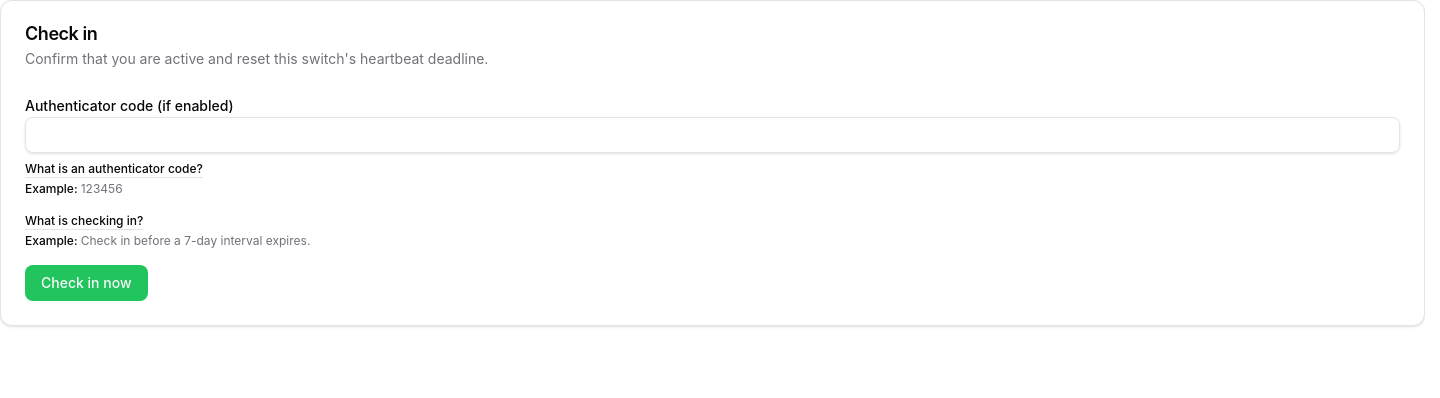
HeartbeatCheckin › explains check-in, optional TOTP, and the deadline result
Click the button "What is checking in?": {"x": 84, "y": 221} [25,213,143,229]
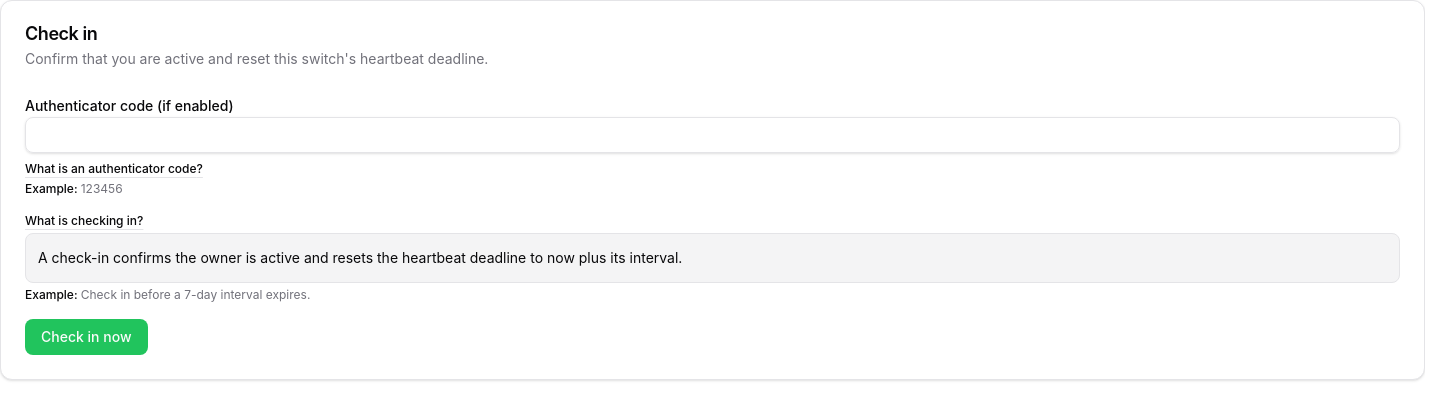
expect the button "What is an authenticator code?" is shown: met, box [25,161,203,177]
expect the text named "checking in explanation" shows "now plus its interval": met, box [38,249,682,266]
